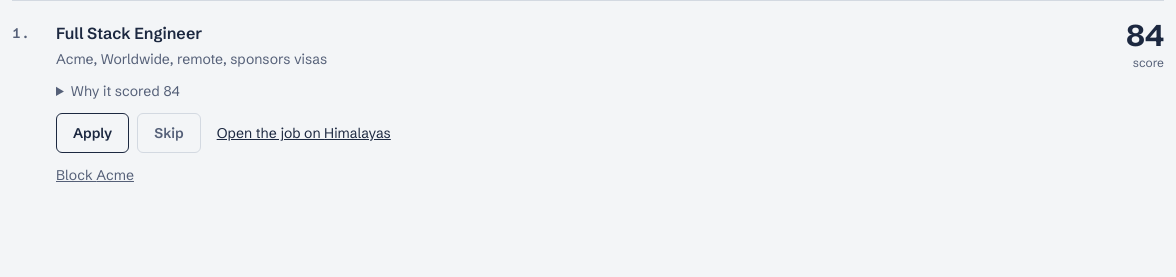
it: says why a company could not be blocked
Step 1. Click the button "Block Acme" → (95, 175), box [56,165,134,185]
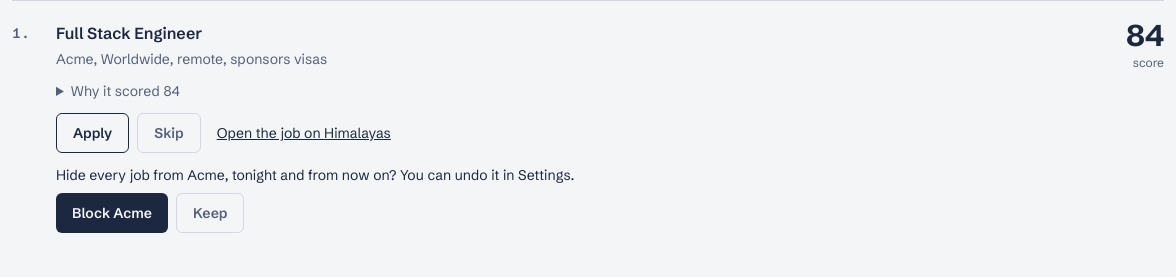
Step 2. Click the button "Block Acme" → (112, 213), box [56,193,168,233]
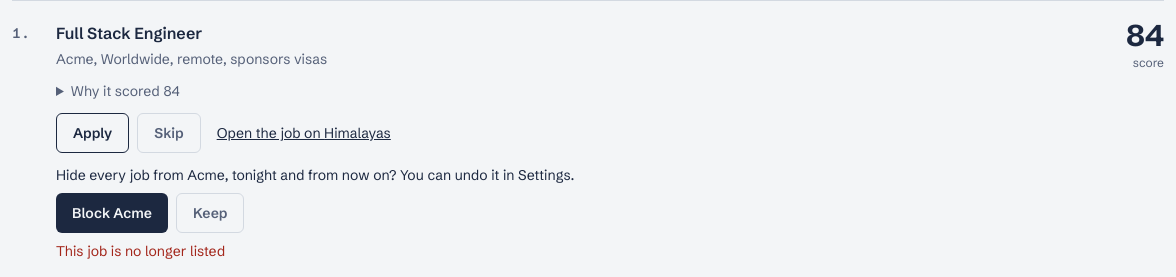
Expected: the message reads "This job is no longer listed", [56,242,225,260]
